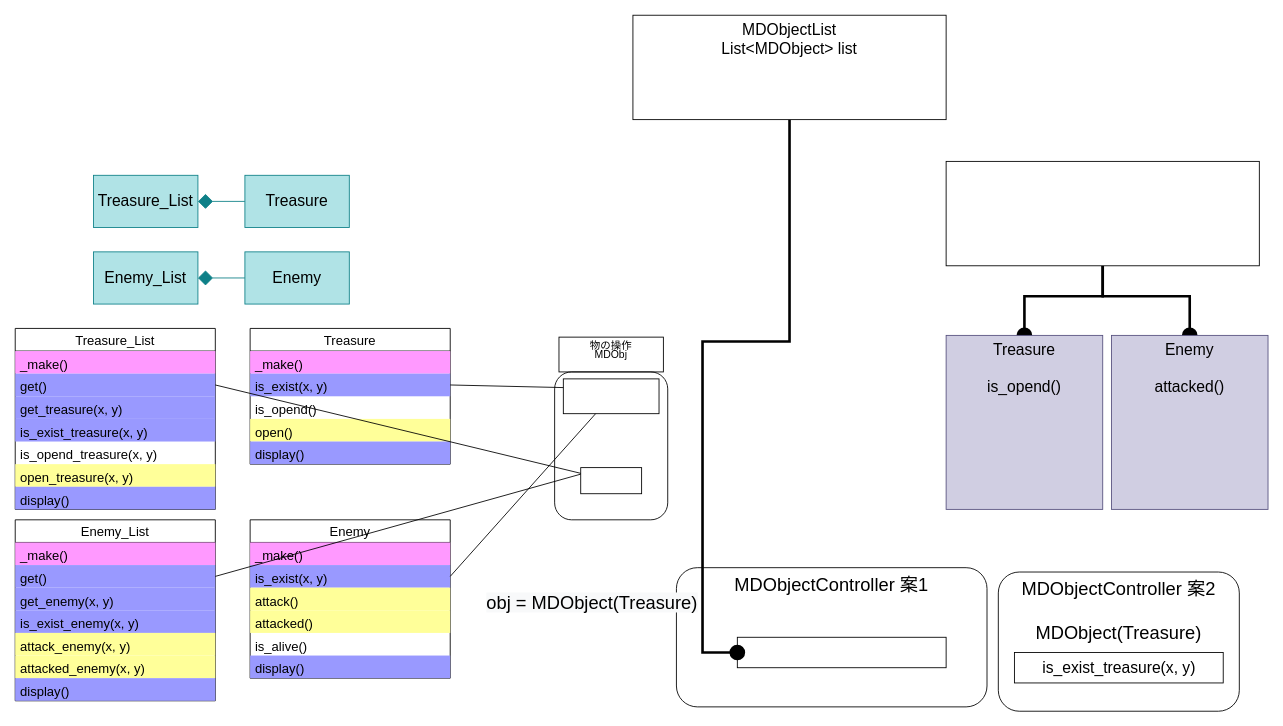
Some shapes in this 1283 by 726 pixel diagram are drawn without their labels. Here are the shapes that lost their labels. From the top down, the centre of each, then its label:
point (1102, 213): MDObject x, y
point (610, 396): is_exist(x,y)
point (841, 652): is_exist(obj, x, y)
